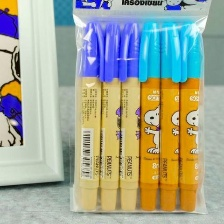correction_fluid: (76, 19, 106, 211), (176, 20, 202, 213), (136, 20, 161, 212), (157, 19, 181, 213), (116, 19, 139, 212), (99, 20, 122, 212)
